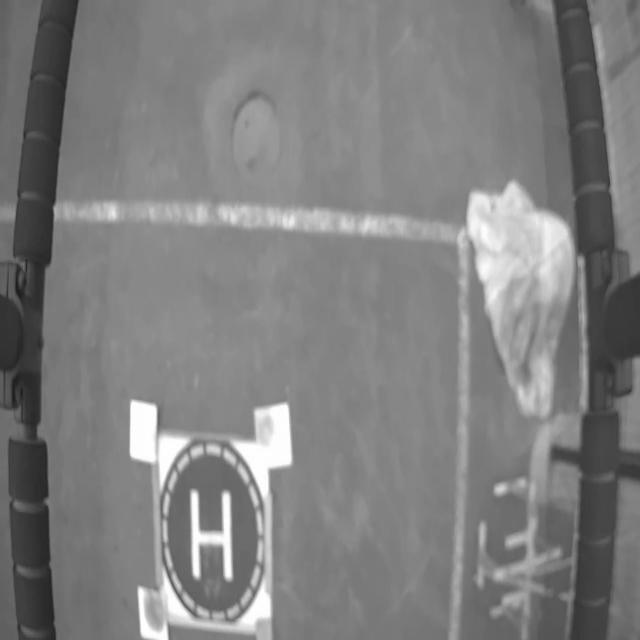Helipad: (190, 489, 233, 581)
